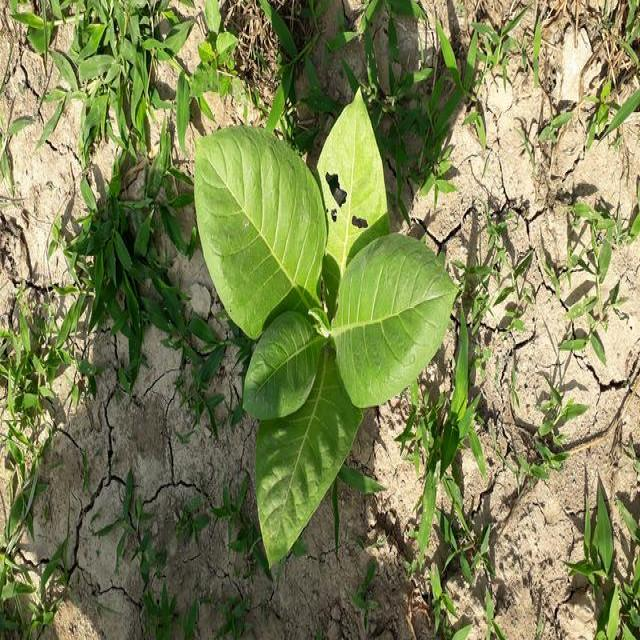crop: (190, 90, 456, 570)
